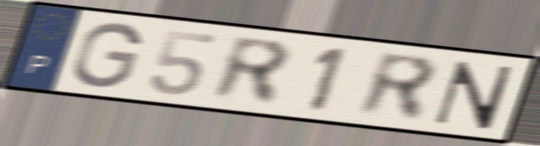1: (306, 45, 350, 113)
5: (148, 27, 220, 97)
G: (68, 21, 146, 91)
N: (429, 58, 519, 132)
R: (208, 33, 295, 109), (355, 49, 441, 125)
